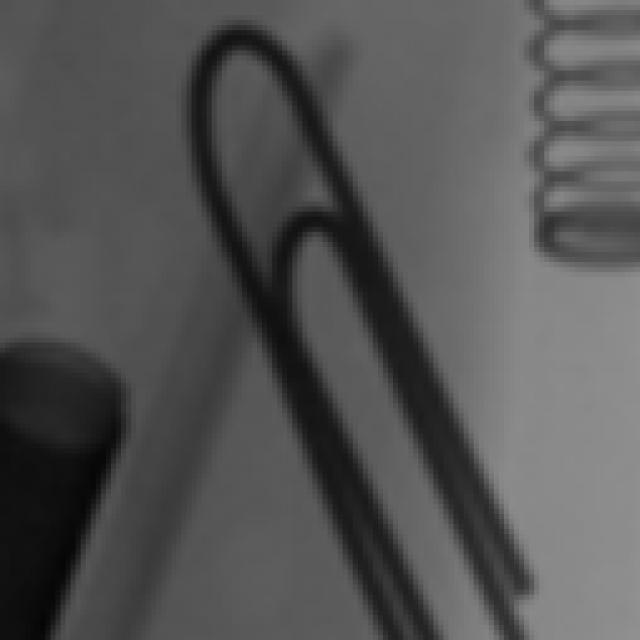GUN: (1, 377, 108, 640)
